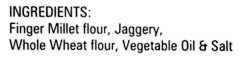ingredients: (6, 4, 235, 54)
